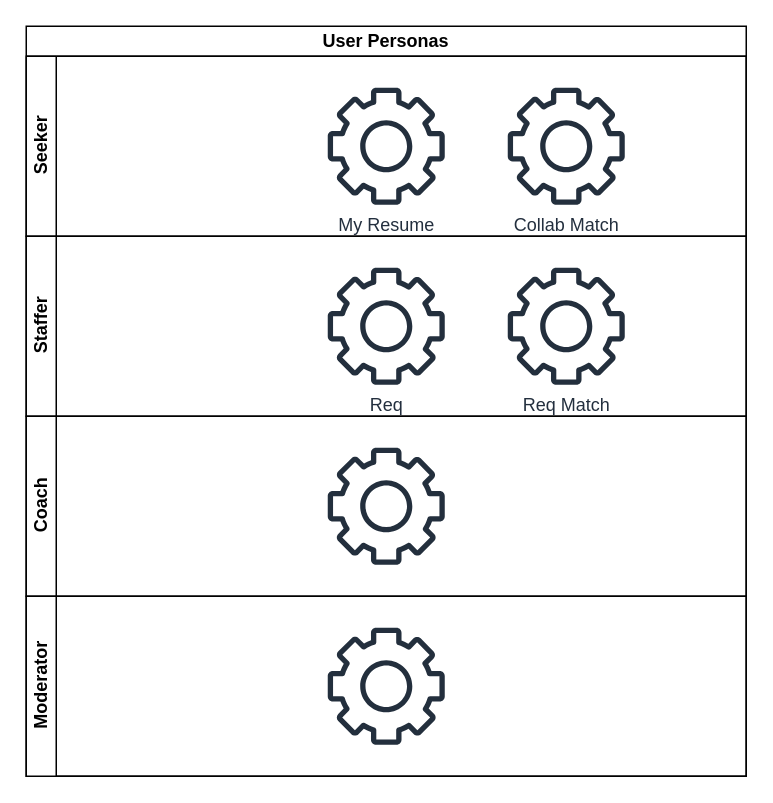
The diagram is 773 pixels wide and 803 high, and some of its shapes have lost their labels. The centre of each missing label's shape, as x and y in pixels:
Collab: the point at 385,505
Moderate: the point at 385,685
